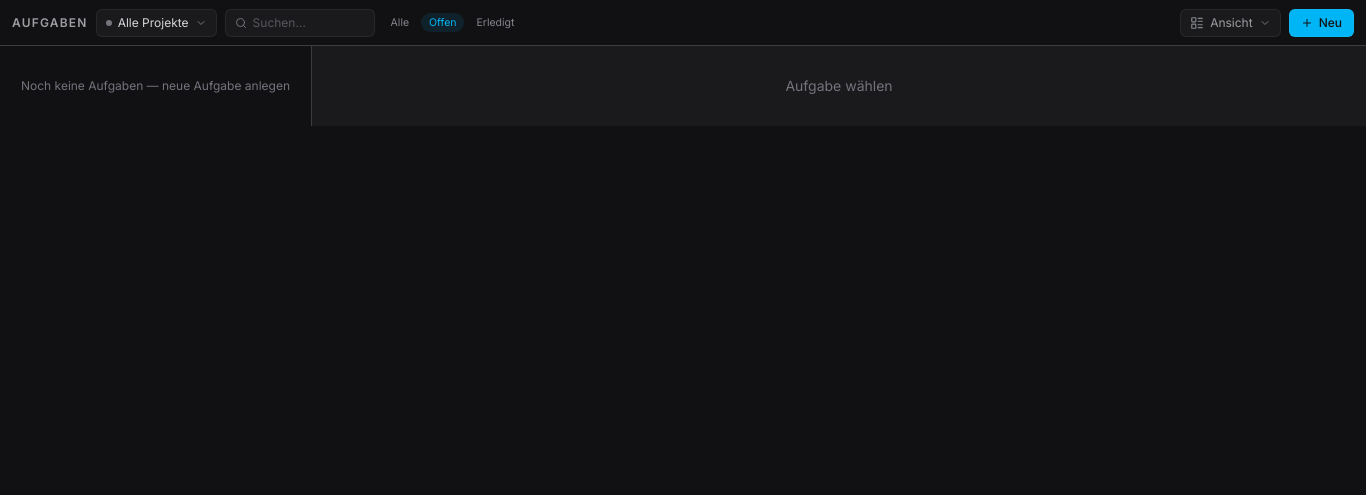
Scenario: TasksView — Neue Aufgabe (direct create + open) › creates a task and opens its detail card directly on click
The width and height of the screenshot is (1366, 495).
Expected: the text "Aufgabe wählen" is shown, [785,77,893,94]
Click the button with aria-label "Neue Aufgabe".
click(1321, 22)  # box [1289,8,1354,36]
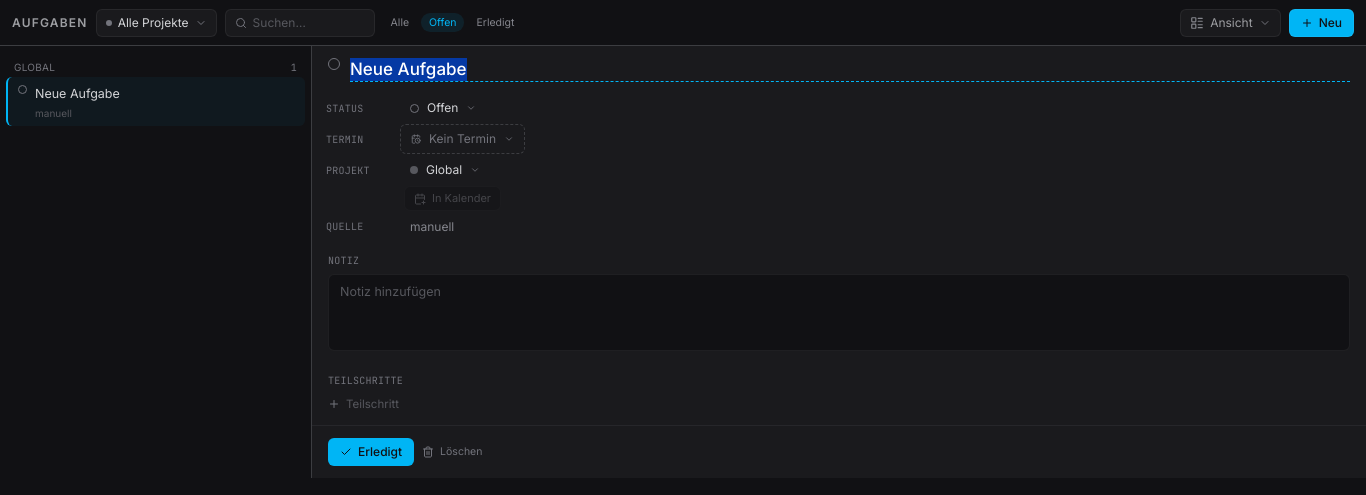
Expected: the text "Neue Aufgabe" is shown, [35,85,120,102]
Now the field named "Aufgabentitel" holds "Neue Aufgabe", box [350,58,1350,82]
